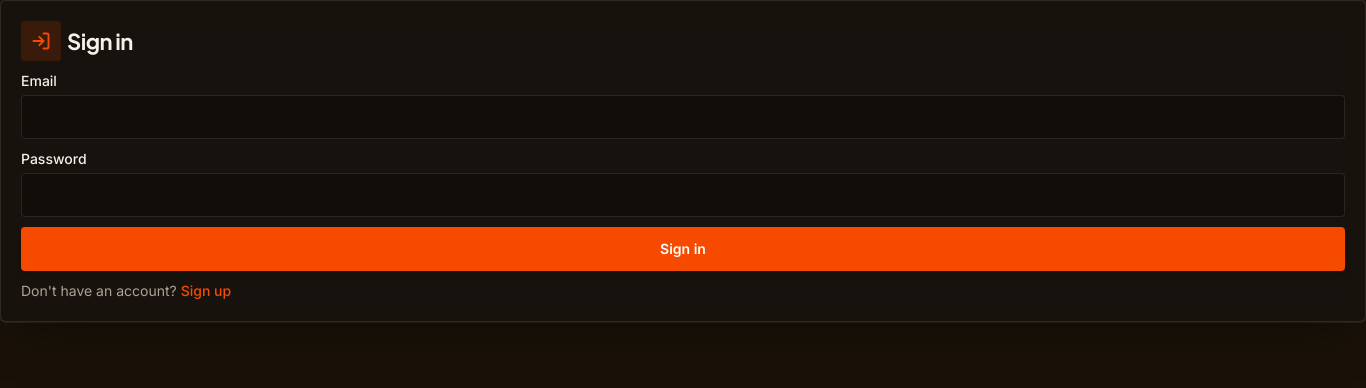
Test: SignInForm › requires an email and password
Click the button "Sign in": (683, 249) [21,227,1345,271]
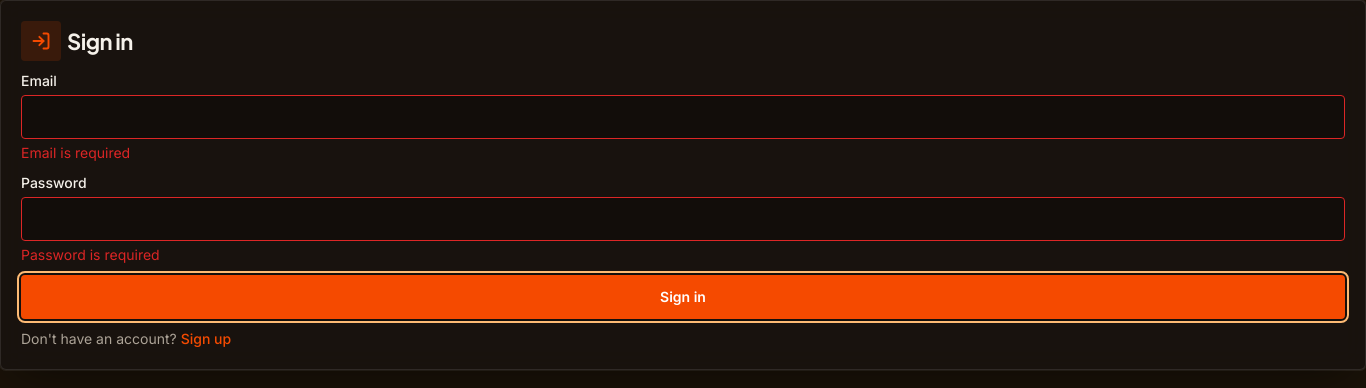
Now the text "Email is required" is shown, box [21,144,130,161]
Now the text "Password is required" is shown, box [21,246,160,263]
